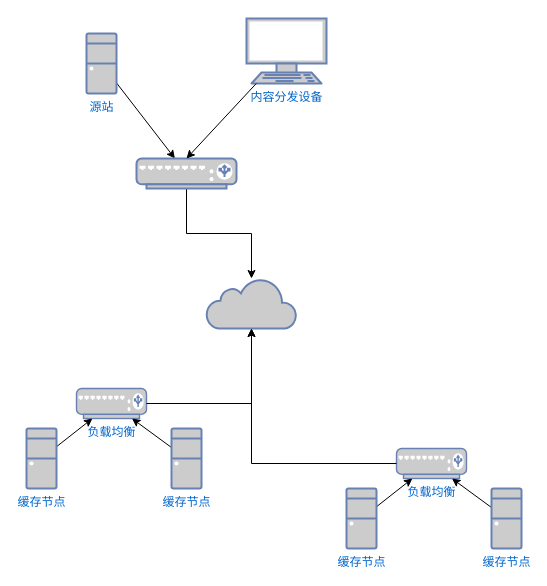
Image size: 547x586. Some labels were removed from this diagram. Each missing label, with the box of its shape:
互联网: (205, 277, 297, 329)
全局负载均衡: (135, 157, 237, 189)
